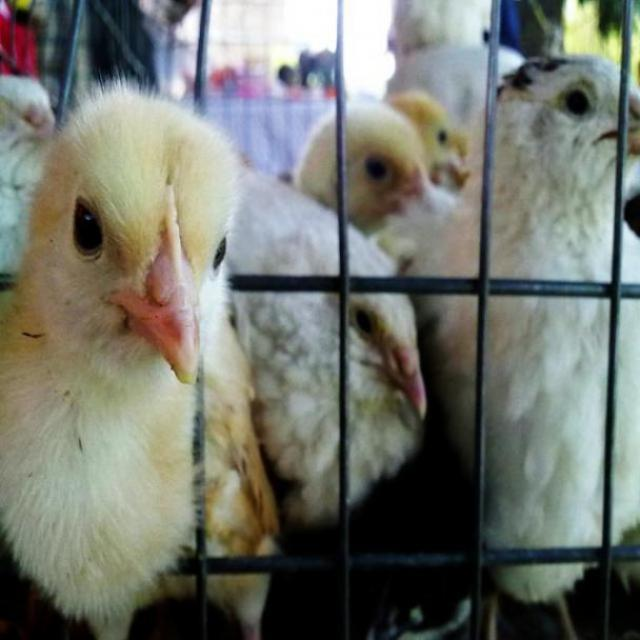Chicken: (6, 78, 273, 640)
